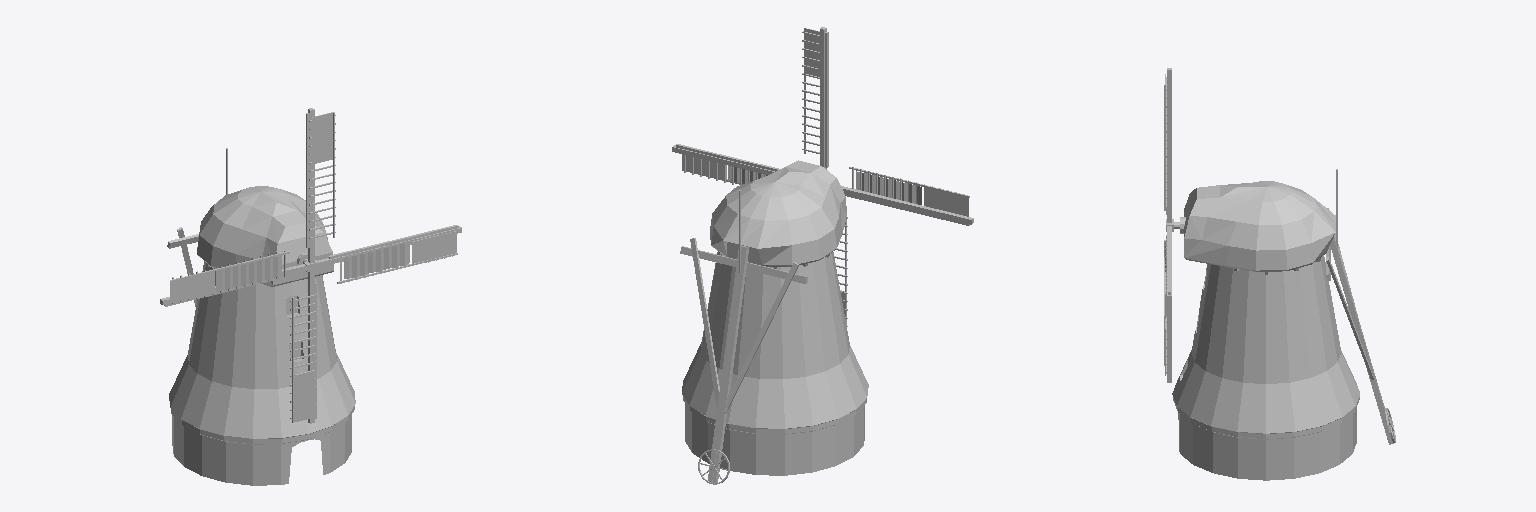
File: miller.obj
3 views of the same model, side by side, from view 1: azimuth 30°, elevation 25°; view 2: azimuth 150°, elevation 25°; view 3: azimuth 270°, elevation 25° (orthographic).
Visible parts, largest first — view 1: building_Untitled.000, Object_Untitled.000; view 2: building_Untitled.000, Object_Untitled.000; view 3: building_Untitled.000, Object_Untitled.000.
Part boxes in pixels (x1,y1,x2,y2): building_Untitled.000: (167,148,355,485); Object_Untitled.000: (160,108,461,423); building_Untitled.000: (680,160,868,484); Object_Untitled.000: (672,27,973,326); building_Untitled.000: (1172,169,1395,480); Object_Untitled.000: (1164,68,1173,382).
Size of the model in its own units: 19.08 by 22.81 by 12.81.